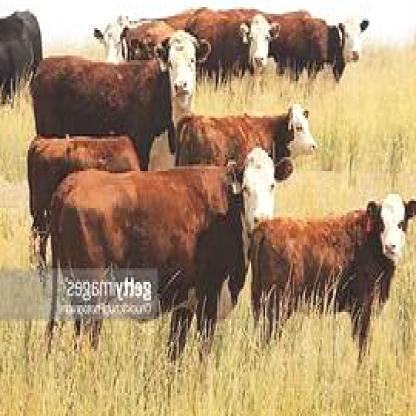cow: (48, 146, 294, 358), (248, 194, 415, 350), (31, 30, 211, 134), (176, 102, 317, 166), (274, 9, 373, 81), (189, 7, 282, 76), (1, 9, 42, 104)
